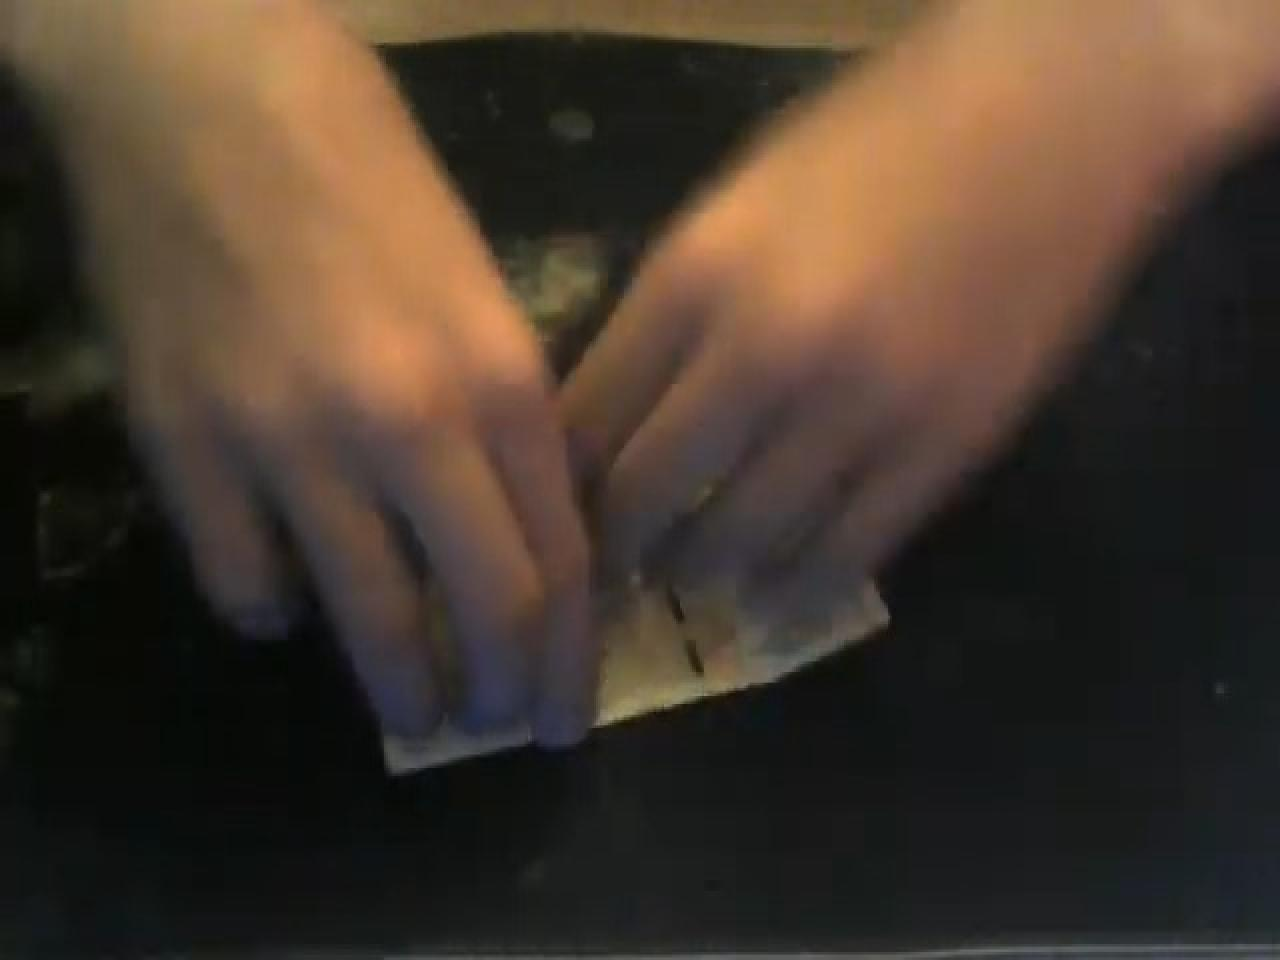10leva: (42, 0, 1280, 773)
